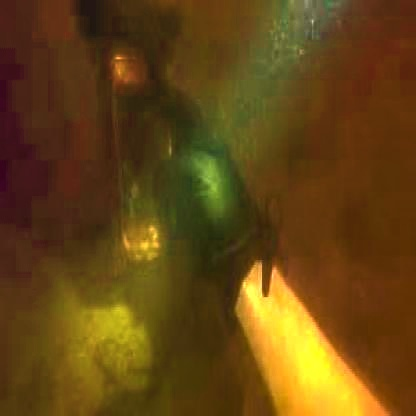cellphone: (108, 47, 178, 270)
